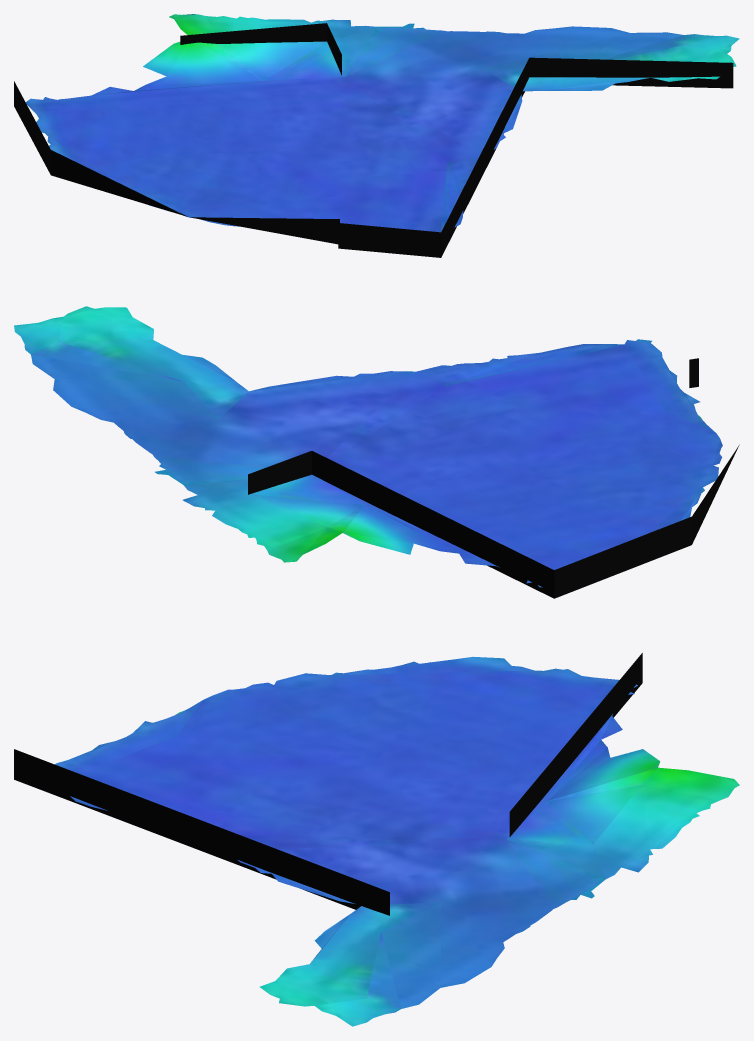
3 renders of one model, top to bottom at view 1: azimuth 30°, elevation 25°; view 2: azimuth 150°, elevation 25°; view 3: azimuth 270°, elevation 25°, orthographic. The views are drawn at different scales.
Bounding box in the file's own units: 238 × 9 × 193.
2 materials, 2 textured.
